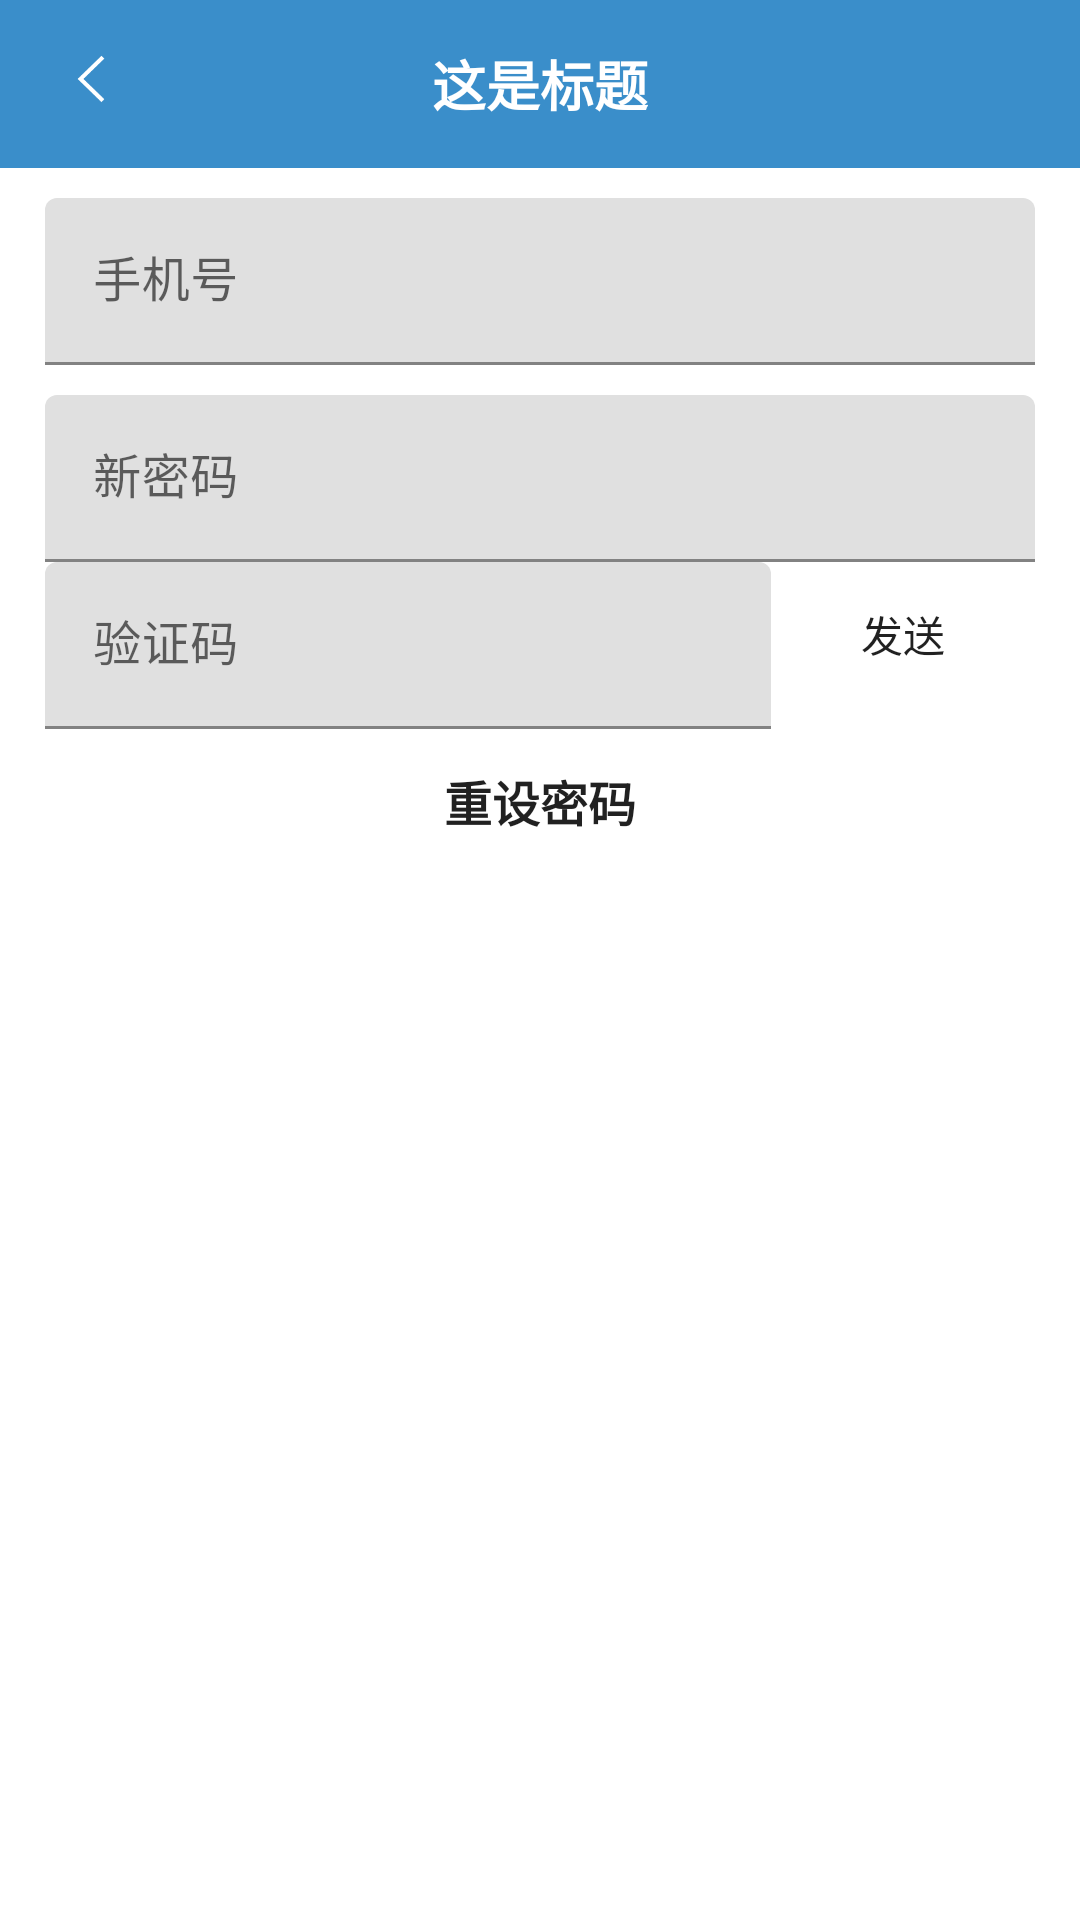

Icons on this 1080 x 1920 Android screen, each with its box as (x1, y1, x2, y2):
left arrow: (78, 56, 105, 102)
